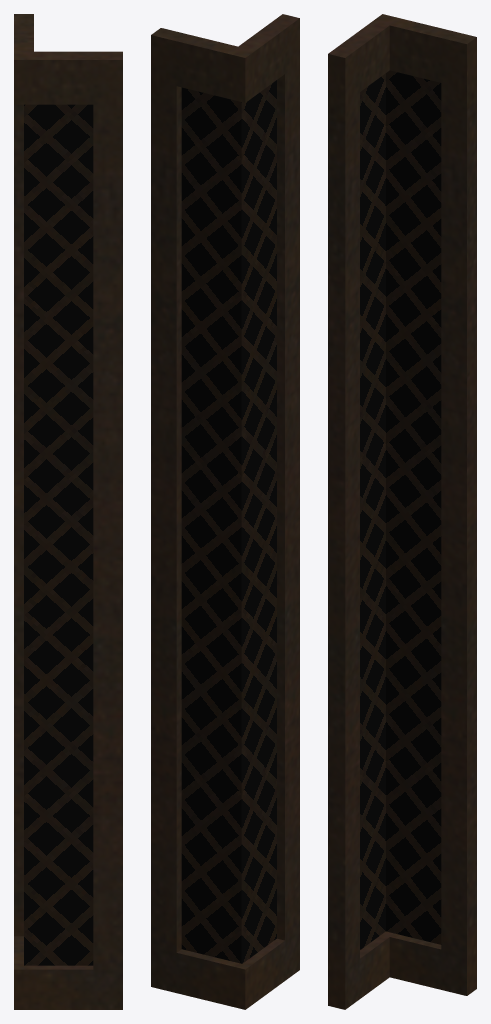
Rendered from fence_e_pillar_1_corner.obj.
3 renders of one model, left to right at view 1: azimuth 90°, elevation 25°; view 2: azimuth 150°, elevation 25°; view 3: azimuth 330°, elevation 25°, orthographic.
Visible parts, largest first — view 1: fence_e_pillar_1_corner; view 2: fence_e_pillar_1_corner; view 3: fence_e_pillar_1_corner.
Part boxes in pixels (<box>): fence_e_pillar_1_corner: <box>14,14,122,1009</box>; fence_e_pillar_1_corner: <box>151,14,299,1009</box>; fence_e_pillar_1_corner: <box>328,14,476,1009</box>.
Bounding box in the file's own units: 0.22 × 2.12 × 0.22.
